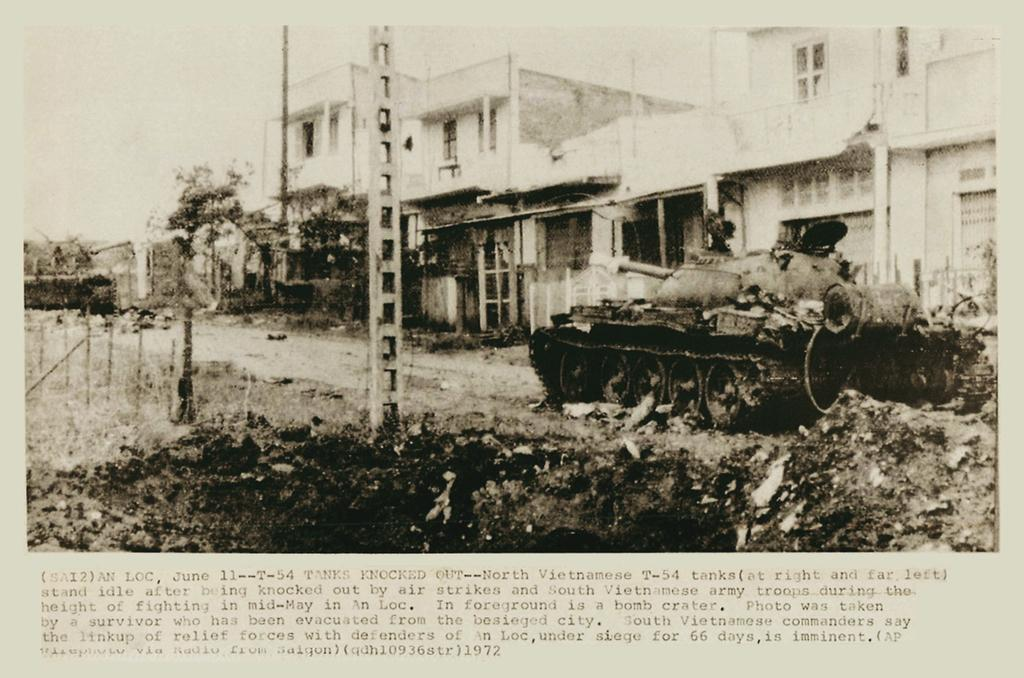Tank: (524, 210, 1000, 432), (24, 236, 131, 315)
